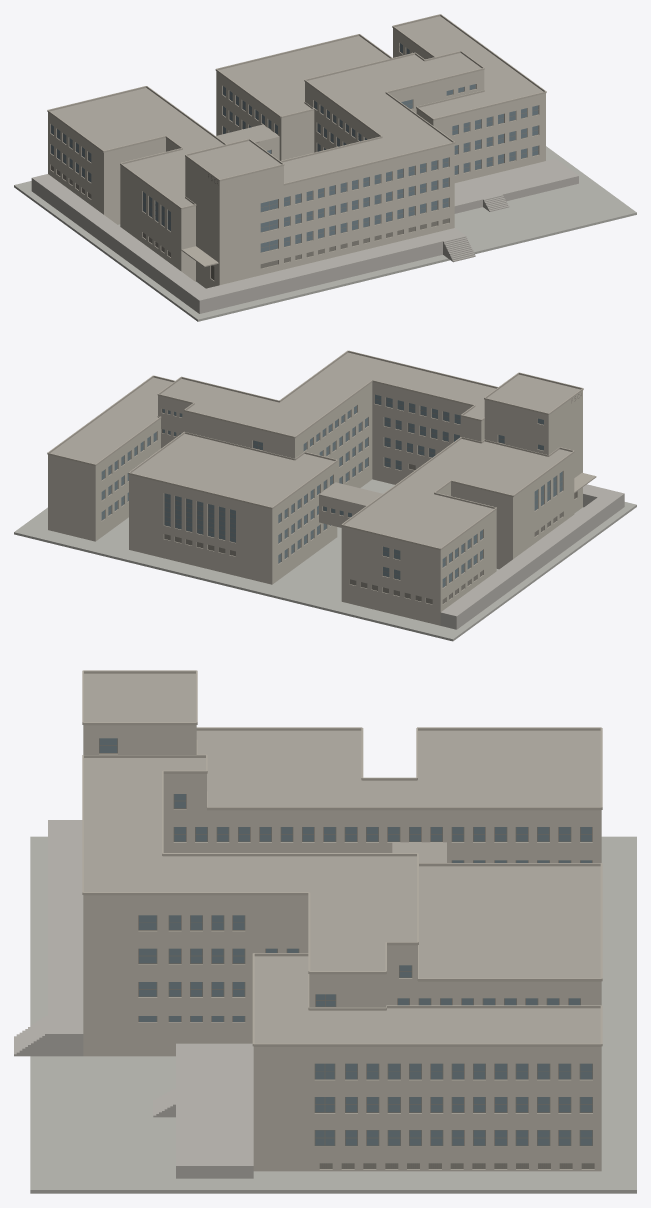
Rendered from marconi-cu013-dossier.glb.
The picture shows the model from 3 angles, top to bottom: view 1: azimuth 30°, elevation 25°; view 2: azimuth 150°, elevation 25°; view 3: azimuth 270°, elevation 25°; orthographic projection. The views are drawn at different scales.
Parts seen in each view (by area): view 1: intonaco, copertura, piazzale, terra, cornici, vetro, infissi, griglie; view 2: intonaco, copertura, terra, cornici, vetro, piazzale, infissi, griglie; view 3: copertura, intonaco, terra, piazzale, vetro, cornici, infissi, griglie.
Part boxes in pixels (bbox=[...]): intonaco: bbox=[48, 28, 545, 288]; copertura: bbox=[50, 16, 543, 207]; piazzale: bbox=[31, 159, 578, 313]; terra: bbox=[14, 146, 636, 321]; cornici: bbox=[47, 14, 546, 280]; vetro: bbox=[51, 43, 538, 252]; infissi: bbox=[50, 47, 538, 279]; griglie: bbox=[51, 165, 448, 267]; intonaco: bbox=[48, 382, 582, 625]; copertura: bbox=[50, 352, 580, 548]; terra: bbox=[14, 479, 636, 641]; cornici: bbox=[47, 350, 596, 604]; vetro: bbox=[101, 394, 562, 587]; piazzale: bbox=[440, 484, 624, 629]; infissi: bbox=[102, 393, 581, 604]; griglie: bbox=[164, 464, 562, 603]; copertura: bbox=[84, 673, 600, 1043]; intonaco: bbox=[83, 725, 601, 1171]; terra: bbox=[30, 836, 636, 1193]; piazzale: bbox=[14, 820, 253, 1178]; vetro: bbox=[99, 738, 592, 1145]; cornici: bbox=[82, 670, 602, 1169]; infissi: bbox=[99, 738, 594, 1168]; griglie: bbox=[320, 1163, 593, 1168].
Size of the model in its own units: 94.68 by 24.96 by 70.54.
